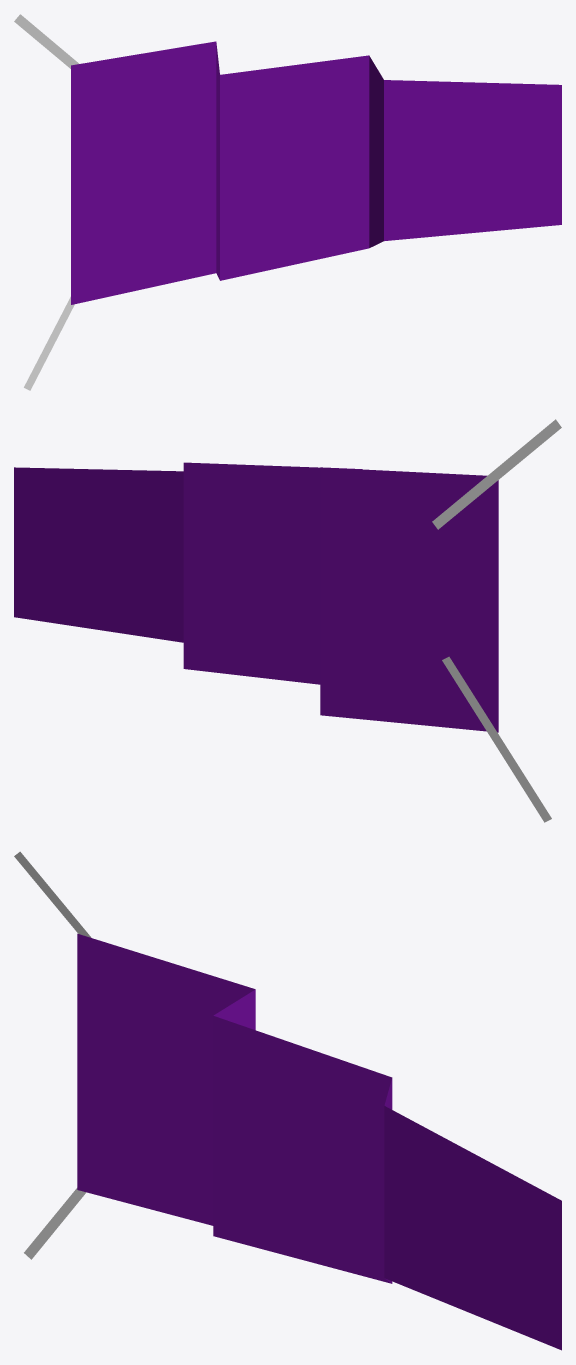
The model's file is Flag_Purple.fbx.
3 renders of one model, top to bottom at view 1: azimuth 30°, elevation 25°; view 2: azimuth 150°, elevation 25°; view 3: azimuth 330°, elevation 25°, orthographic. The views are drawn at different scales.
Parts seen in each view (by area): view 1: Flag_Purple; view 2: Flag_Purple; view 3: Flag_Purple.
Boxes of the visible parts, bbox=[...] form: Flag_Purple: bbox=[14, 14, 561, 390]; Flag_Purple: bbox=[14, 419, 561, 822]; Flag_Purple: bbox=[14, 851, 561, 1350].
Bounding box in the file's own units: 110 × 75.05 × 10.64.
